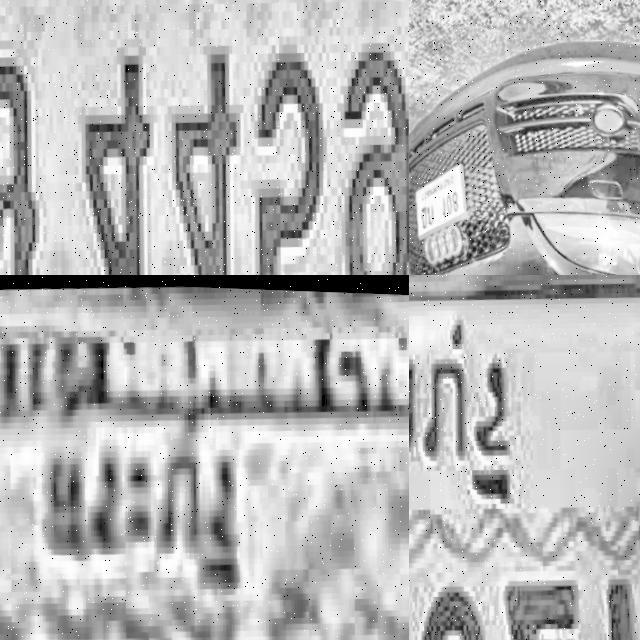license-plate: (0, 312, 409, 640), (0, 0, 409, 275), (409, 275, 640, 640), (412, 157, 476, 243)
